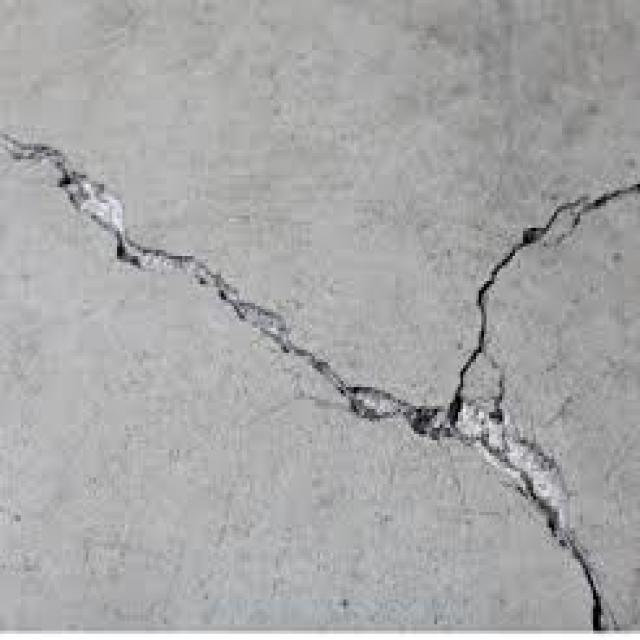Crack: (0, 134, 604, 637), (450, 178, 637, 409)
